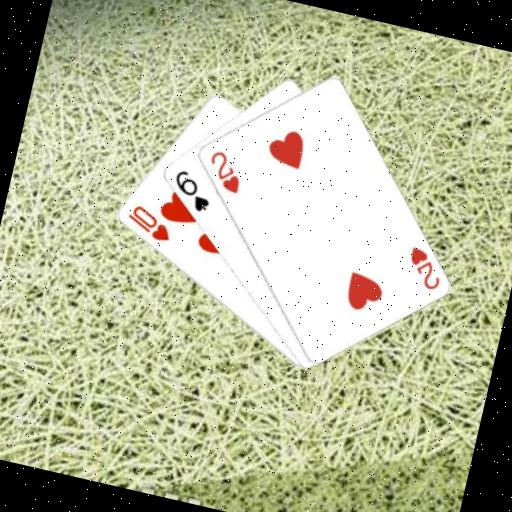10H: (120, 200, 177, 245)
2H: (400, 242, 448, 294), (201, 146, 249, 197)
6S: (165, 165, 217, 215)
